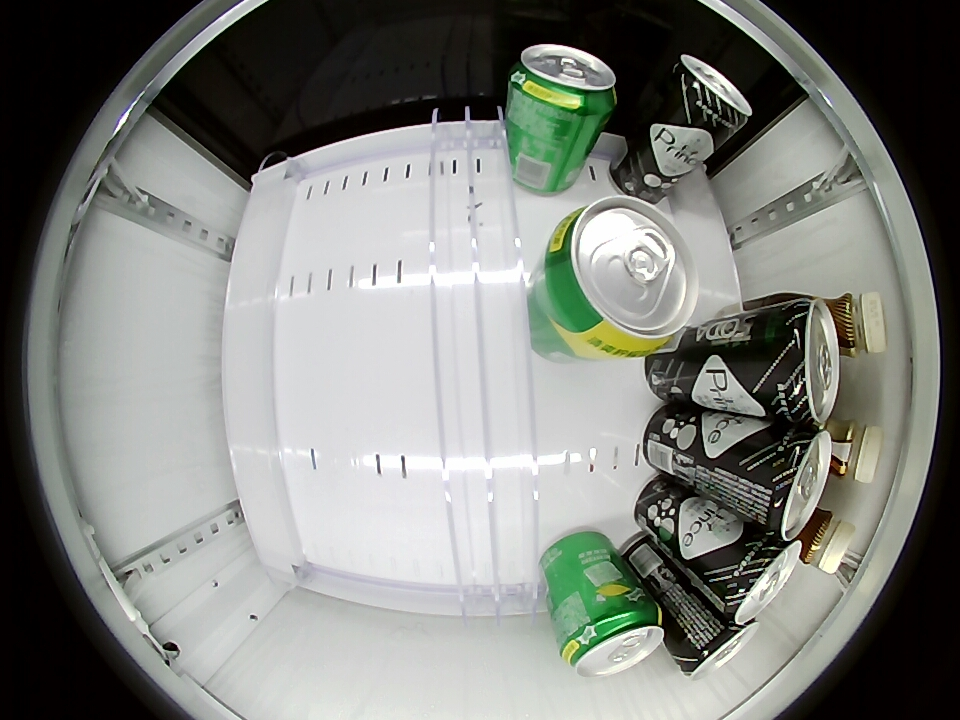kafei: (819, 291, 887, 360), (818, 418, 882, 483), (794, 506, 854, 574)
qingdaowangzi-1: (757, 297, 841, 427), (748, 427, 832, 540), (714, 531, 802, 625), (667, 54, 751, 135), (673, 611, 760, 679)
xuebi2: (540, 196, 696, 357), (508, 44, 617, 123), (558, 597, 664, 677)
